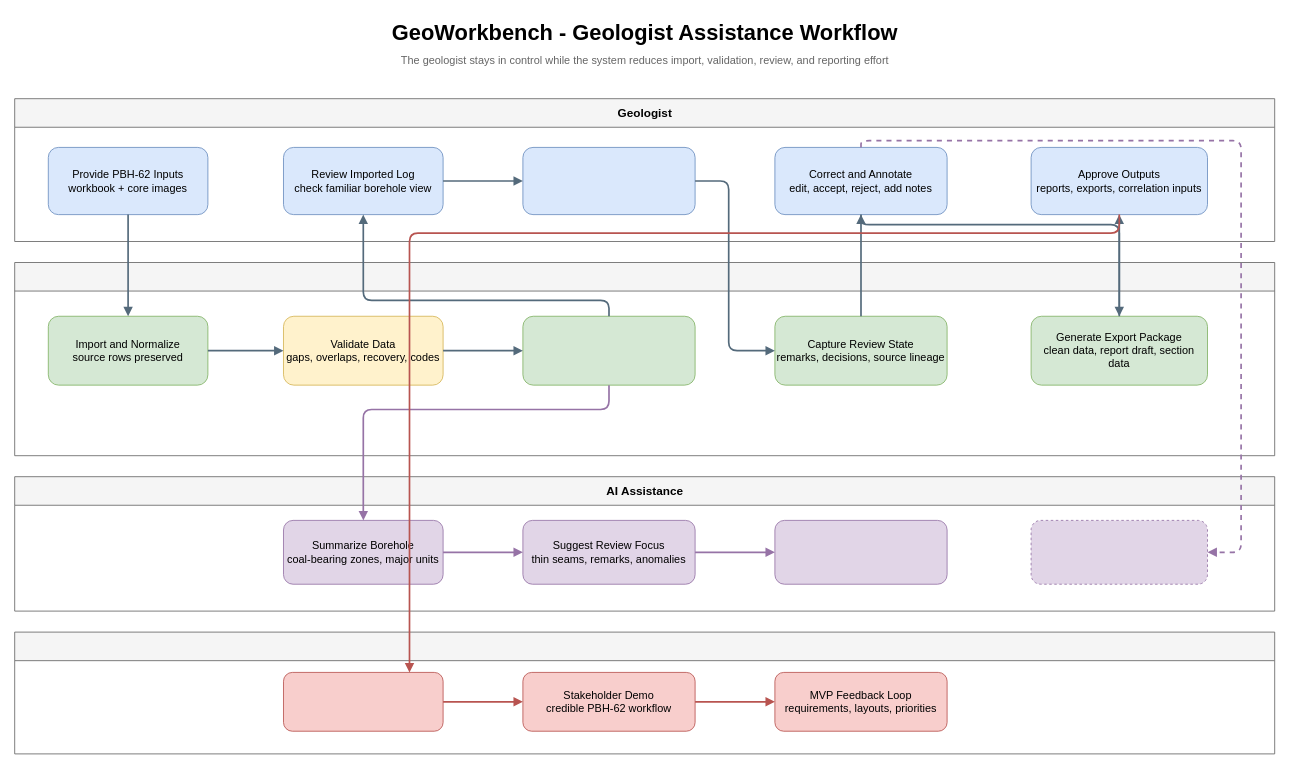
Some shapes in this 1289 by 769 pixel diagram are drawn without their labels. Here are the shapes that lost their labels. From the top down, the box of each, then its label:
(522, 147, 695, 215): Inspect Intervals lithology, seams, RQD, remarks
(522, 315, 695, 385): Render Log Widget tracks, curves, zoom, scroll
(14, 262, 1275, 456): GeoWorkbench
(774, 520, 947, 584): Draft Report Text editable observations with evidence
(1030, 520, 1208, 584): Learn From Corrections future local adaptation
(283, 672, 443, 731): Reviewed Interpretation geologist-approved intervals
(14, 631, 1275, 754): Outputs and Learning
